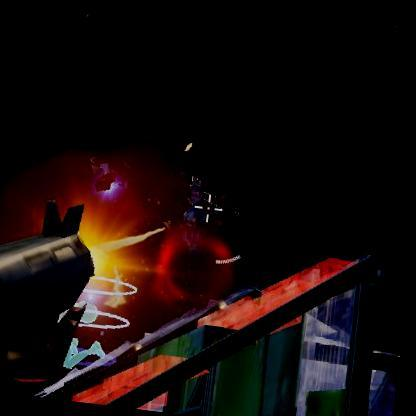person: (168, 180, 230, 283)
